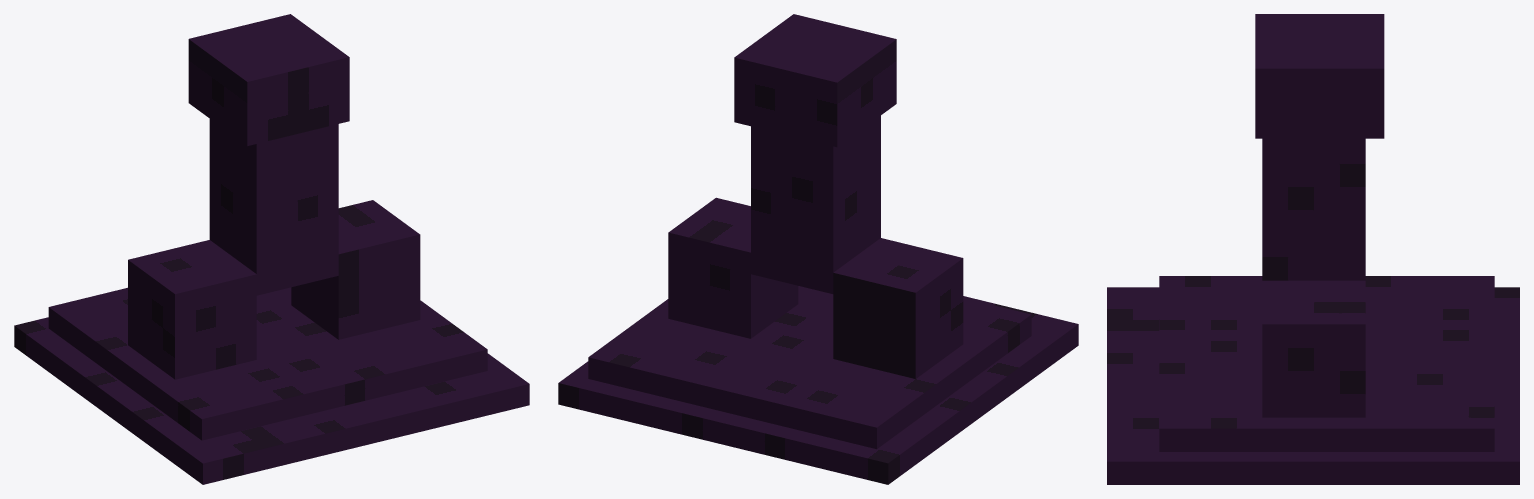
Rendered from obsidian_obj.obj.
3 renders of one model, left to right at view 1: azimuth 30°, elevation 25°; view 2: azimuth 150°, elevation 25°; view 3: azimuth 270°, elevation 25°, orthographic. The views are drawn at different scales.
Visible parts, largest first — view 1: cube.000, cube, cube.001, cube.004, cube.003, cube.002; view 2: cube.000, cube, cube.001, cube.004, cube.003, cube.002; view 3: cube.000, cube, cube.004, cube.001, cube.002.
Boxes of the visible parts, <box> form: cube.000: <box>48,287,487,440</box>; cube: <box>14,317,529,484</box>; cube.001: <box>209,119,338,295</box>; cube.004: <box>188,14,349,145</box>; cube.003: <box>128,240,256,379</box>; cube.002: <box>291,200,420,339</box>; cube.000: <box>588,286,1031,449</box>; cube: <box>558,296,1078,484</box>; cube.001: <box>751,115,880,293</box>; cube.004: <box>734,14,896,147</box>; cube.003: <box>833,238,963,378</box>; cube.002: <box>668,197,798,338</box>; cube.000: <box>1159,276,1494,451</box>; cube: <box>1107,287,1519,484</box>; cube.004: <box>1255,14,1384,138</box>; cube.001: <box>1262,138,1365,280</box>; cube.002: <box>1262,280,1365,417</box>.
Bounding box in the file's own units: 1 × 0.9531 × 1.
